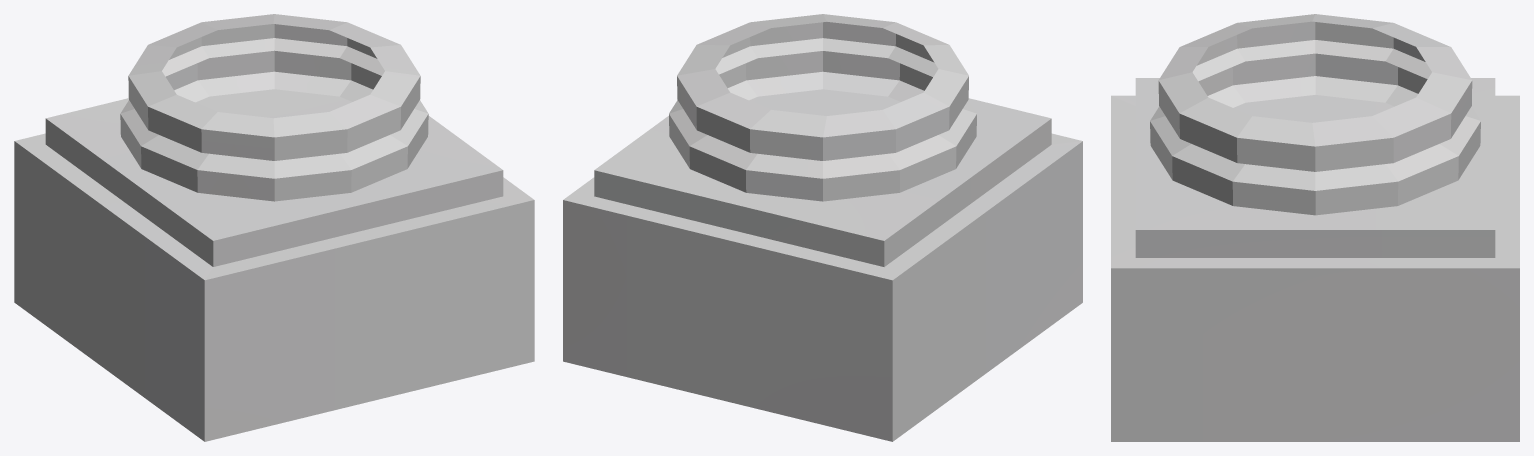
Rendered from Hunterian_Pillar_Bottom.fbx.
3 views of the same model, side by side, from view 1: azimuth 30°, elevation 25°; view 2: azimuth 150°, elevation 25°; view 3: azimuth 270°, elevation 25° (orthographic). The views are drawn at different scales.
Parts seen in each view (by area): view 1: Cylinder.001; view 2: Cylinder.001; view 3: Cylinder.001.
Part boxes in pixels (x1=…): Cylinder.001: x1=14, y1=14, x2=534, y2=441; Cylinder.001: x1=563, y1=14, x2=1082, y2=441; Cylinder.001: x1=1111, y1=14, x2=1519, y2=441.
Bounding box in the file's own units: 1.84 × 1.4 × 1.84.
